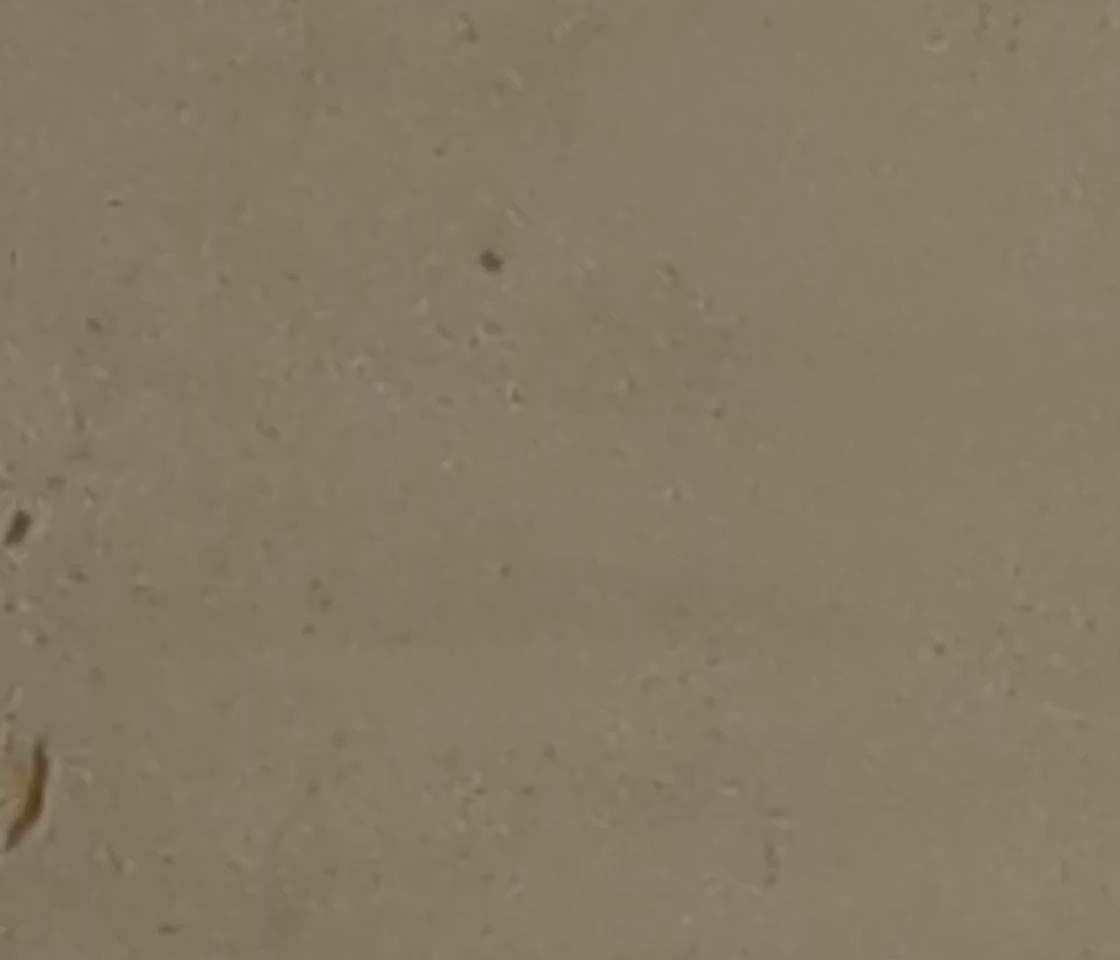scratch: (1, 737, 59, 856), (1, 501, 38, 558)
